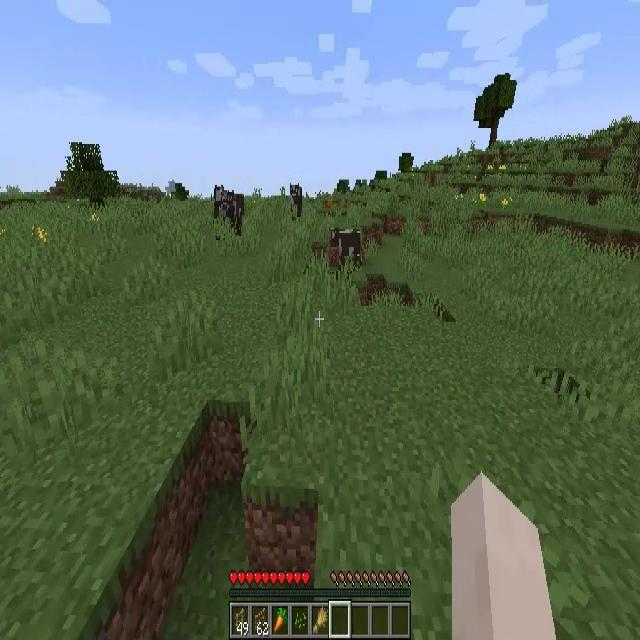cow: (212, 184, 244, 236), (329, 227, 362, 271), (289, 183, 303, 217)
flower: (33, 226, 47, 244), (480, 192, 486, 206), (503, 198, 510, 209), (486, 164, 493, 175), (500, 165, 507, 175)
